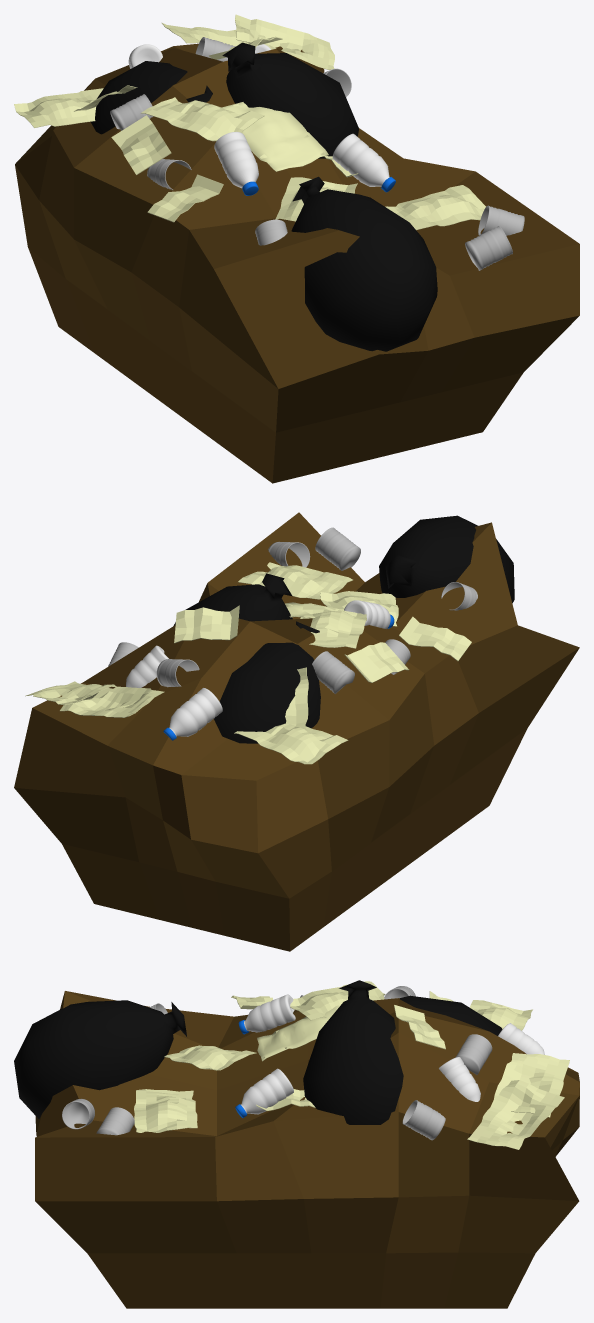
File: RubbishSkipV2.fbx
3 views of the same model, one above another, from view 1: azimuth 30°, elevation 25°; view 2: azimuth 150°, elevation 25°; view 3: azimuth 270°, elevation 25° (orthographic). The views are drawn at different scales.
Parts seen in each view (by area): view 1: Rubbish in skip; view 2: Rubbish in skip; view 3: Rubbish in skip.
Boxes of the visible parts, x1,y1,x2,y2 form: Rubbish in skip: (14,14,579,483); Rubbish in skip: (14,512,579,951); Rubbish in skip: (14,980,579,1308).
Bounding box in the file's own units: 215 × 200 × 366.
